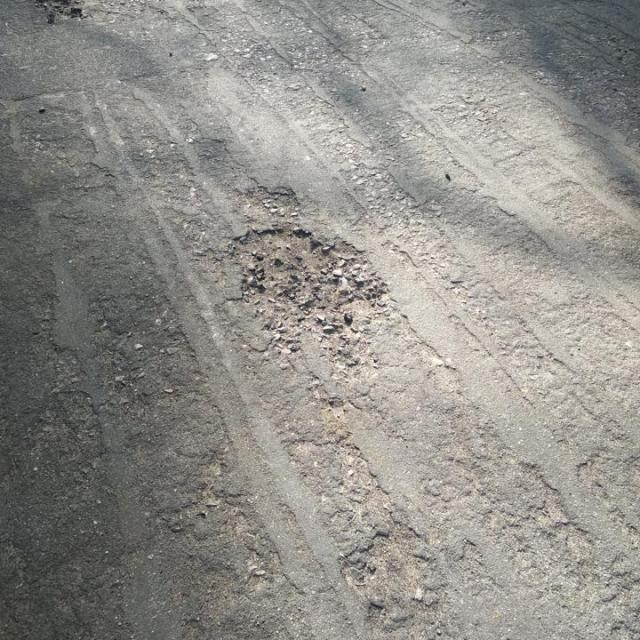Pothole: (224, 223, 402, 358), (247, 183, 304, 221)
